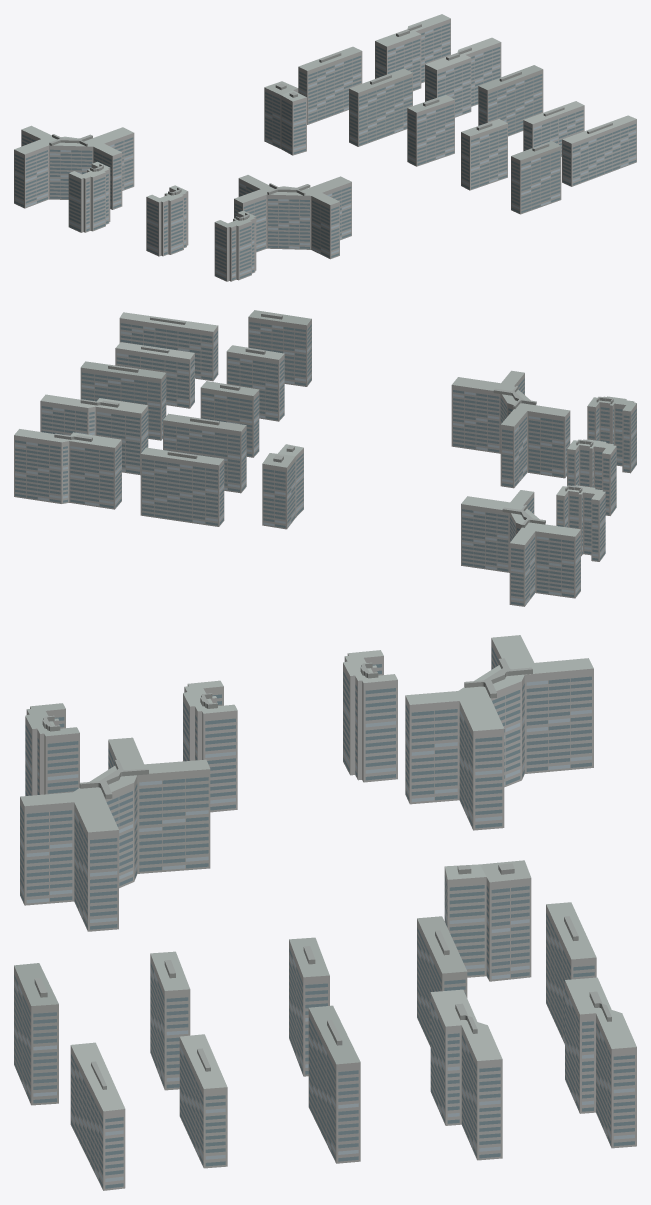
The model's file is apt-a13982301.glb.
3 views of the same model, one above another, from view 1: azimuth 30°, elevation 25°; view 2: azimuth 150°, elevation 25°; view 3: azimuth 270°, elevation 25° (orthographic). The views are drawn at different scales.
Parts seen in each view (by area): view 1: apt-a13982301; view 2: apt-a13982301; view 3: apt-a13982301.
Boxes of the visible parts, x1,y1,x2,y2 form: apt-a13982301: (14,14,636,281); apt-a13982301: (14,310,636,606); apt-a13982301: (14,635,636,1190).
Size of the model in its own units: 451 by 47.81 by 260.
